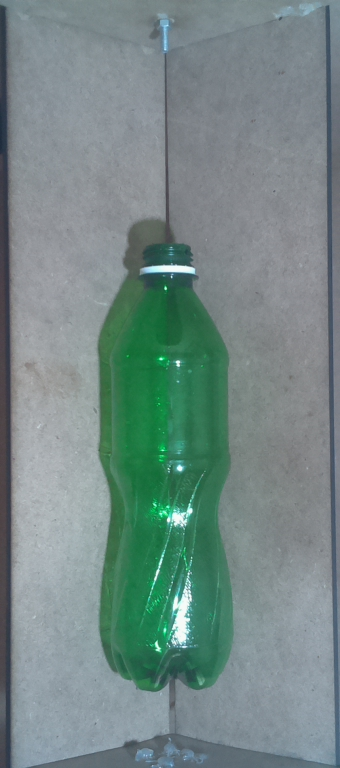Bouteille_0.5L: (96, 234, 238, 694)
